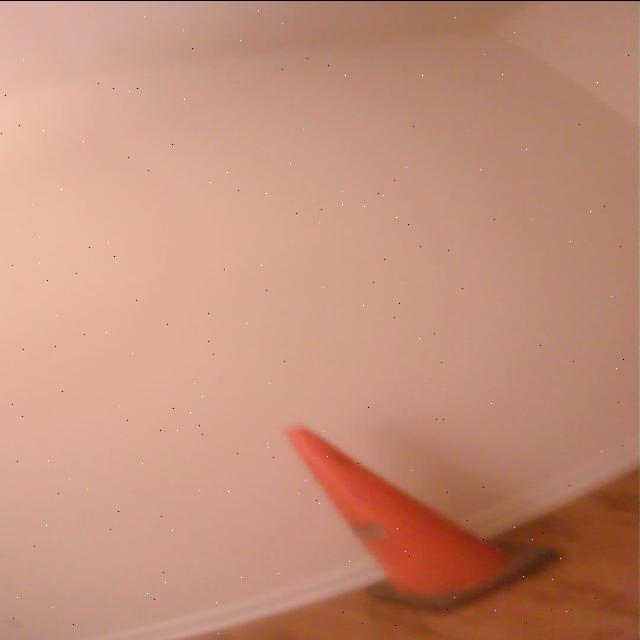traffic cone: (276, 423, 567, 614)
